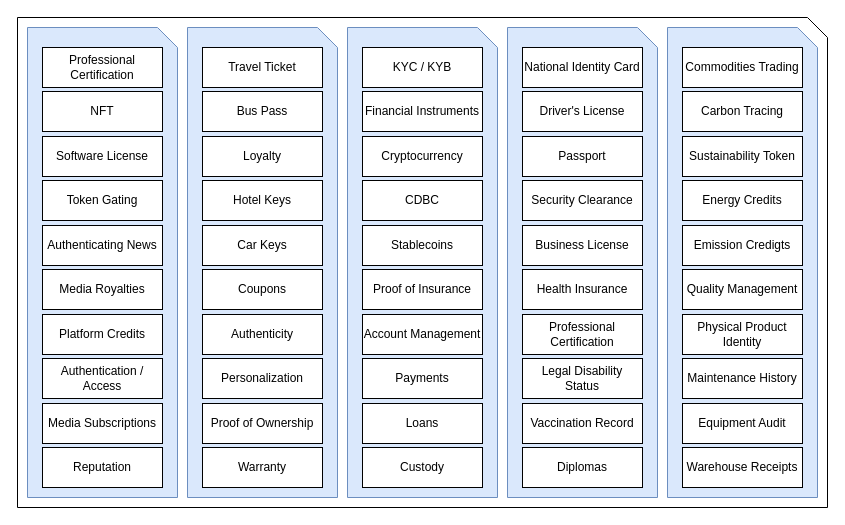
This 845x525 diagram has some shape labels left out. Each missing label, with the box of its shape:
CMT: (26, 26, 178, 498)
FINANCIAL SERVICES: (346, 26, 498, 498)
HEALTH & PUBLIC SERVICES: (506, 26, 658, 498)
PRODUCTS: (186, 26, 338, 498)
RESOURCES: (666, 26, 818, 498)
